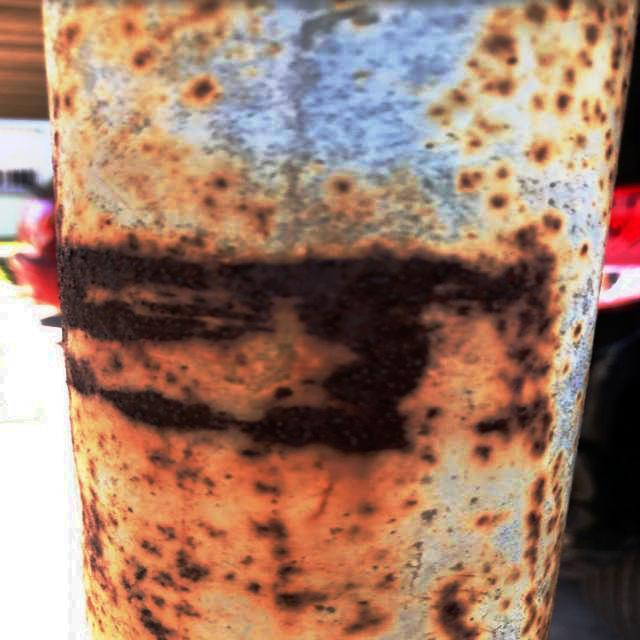Corrosion: (59, 214, 578, 467), (71, 430, 434, 640), (42, 0, 287, 243), (416, 0, 640, 215), (478, 448, 573, 640), (188, 164, 373, 248), (434, 581, 481, 640), (187, 77, 215, 100), (477, 516, 508, 528), (574, 323, 584, 342), (582, 244, 590, 256)
